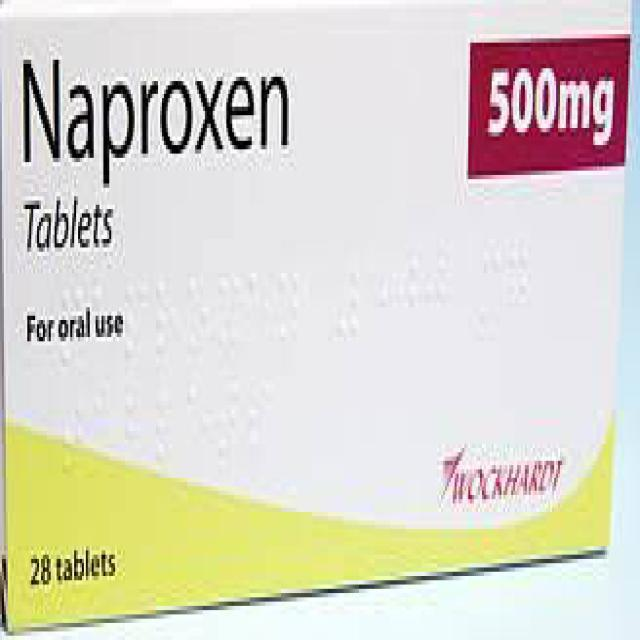drug-name: (19, 51, 296, 171)
